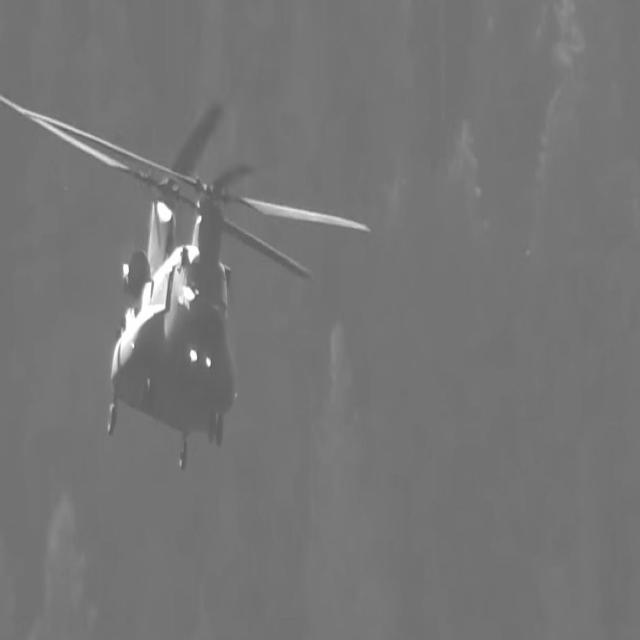Helicopter: (0, 98, 308, 467)
